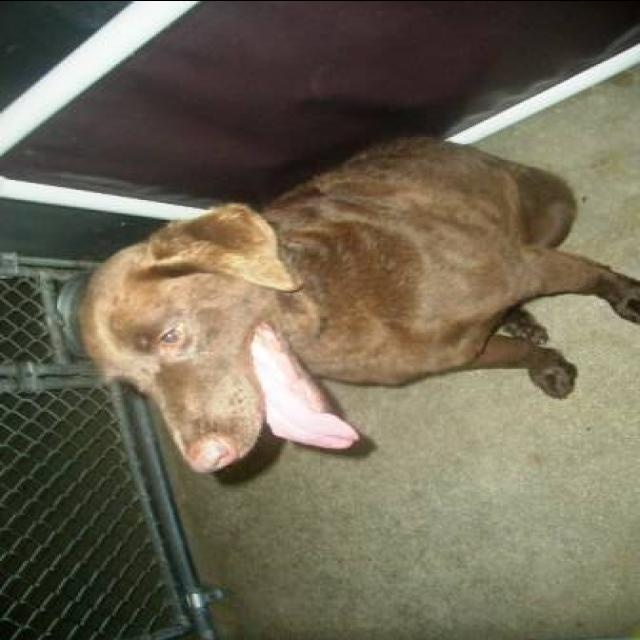dog: (74, 117, 640, 479)
